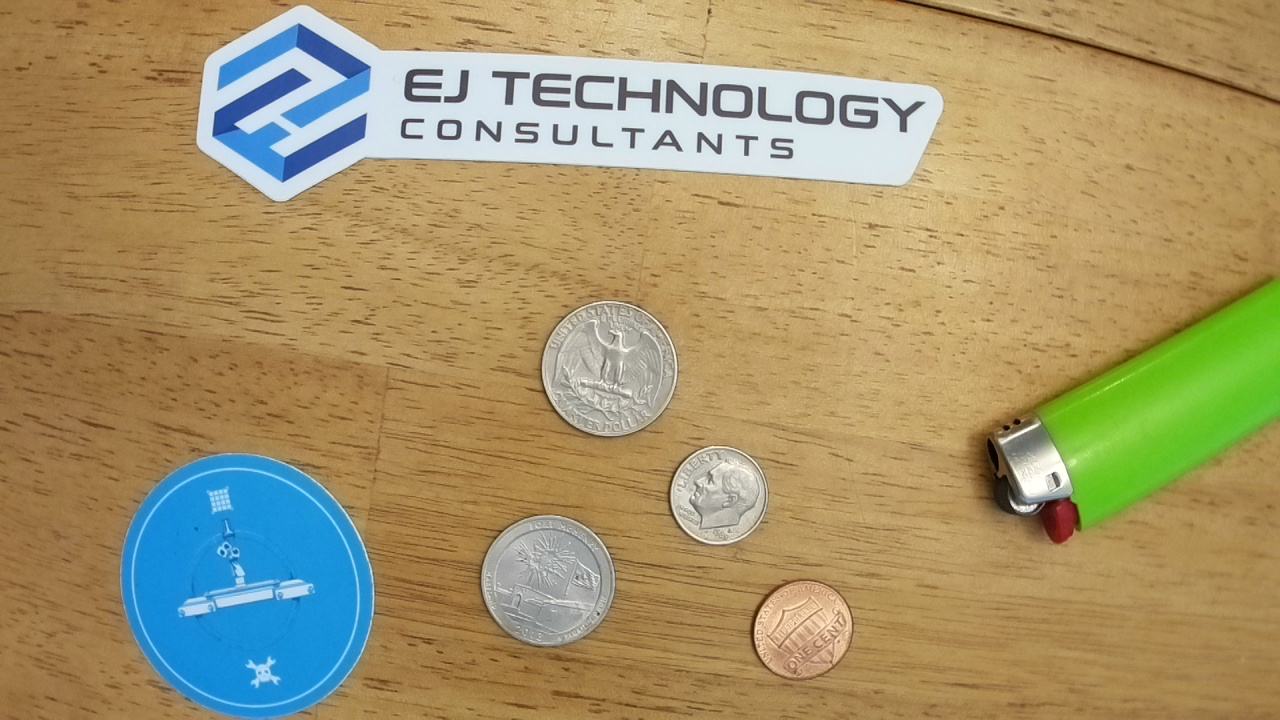dime: (666, 444, 770, 548)
penny: (748, 574, 856, 682)
quarter: (538, 296, 680, 442), (481, 507, 617, 653)
